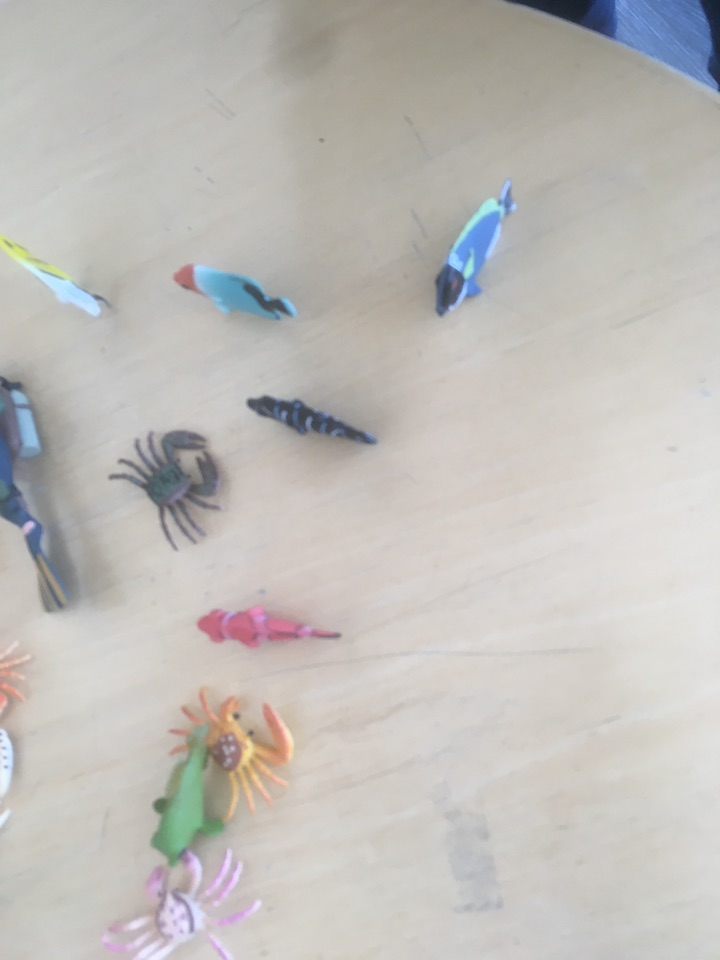crab: (160, 682, 296, 826), (98, 845, 264, 960), (106, 423, 227, 556), (1, 633, 37, 719)
danger: (1, 232, 118, 325)
diver: (1, 367, 77, 618)
fish: (431, 176, 521, 323), (240, 390, 384, 450), (168, 261, 300, 326), (192, 601, 346, 652)
